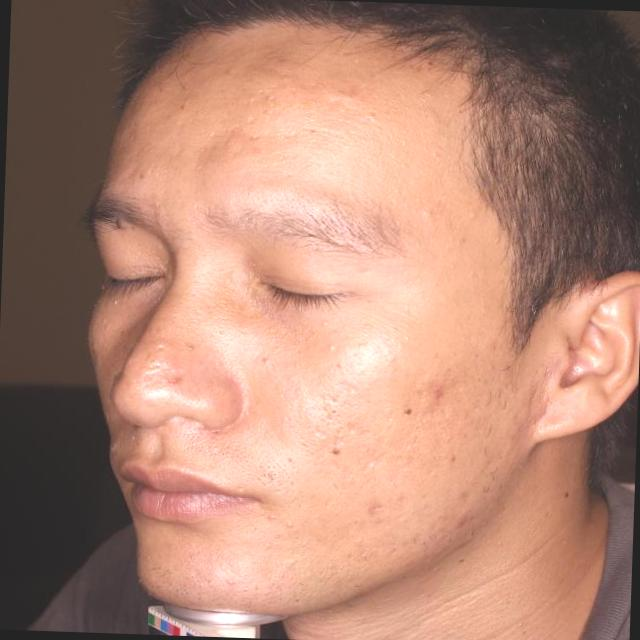acne: (444, 506, 479, 530), (423, 378, 449, 404)
